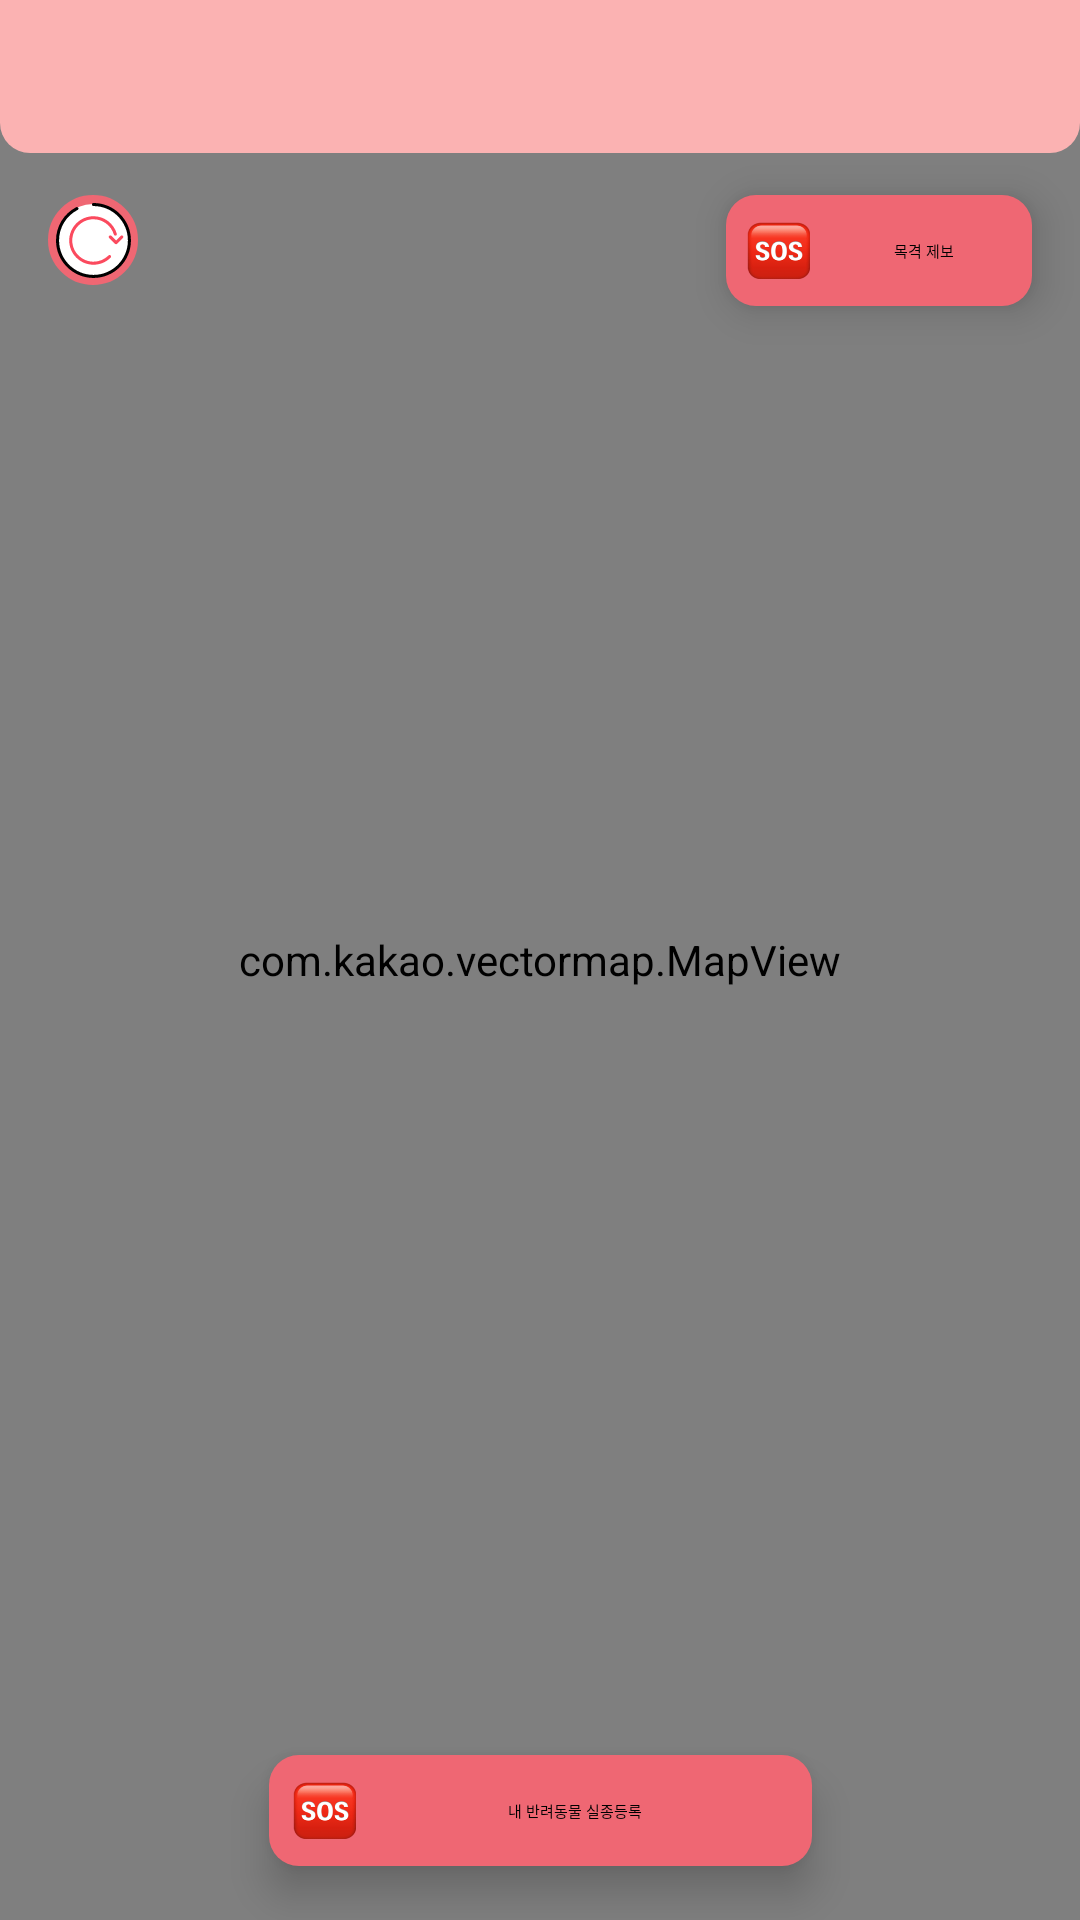

Point at icon controls on the screen. Image size 1080×1920, points as [x,y].
refresh: [93,240]
